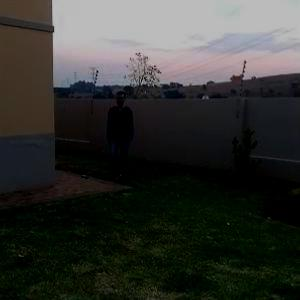follow: (105, 88, 139, 191)
